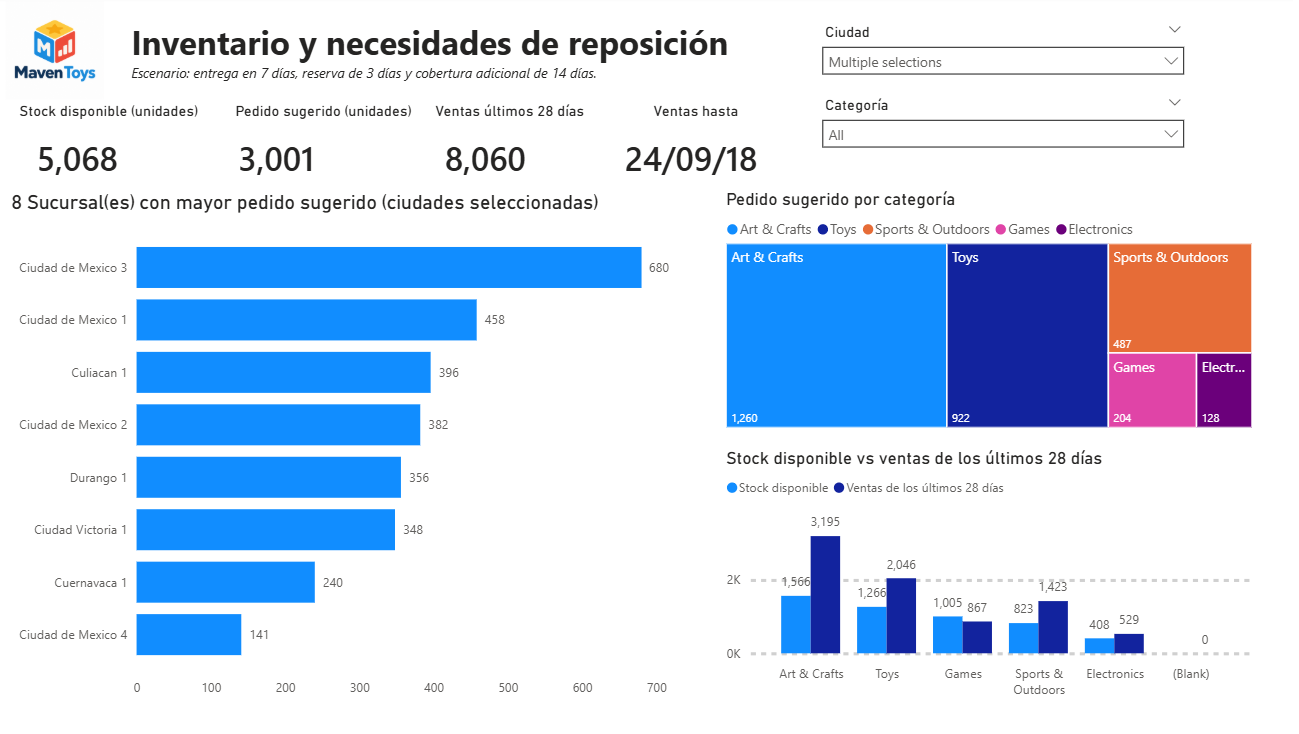

The dashboard page shown, as its layout file describes it:
{"tool":"powerbi","page":{"name":"Resumen de inventario","canvas":[1280,720],"ordinal":0},"visuals":[{"type":"cardVisual","title":"Stock disponible (unidades)","fields":{"Data":["Medidas_2.Stock Actual"]},"box":[28,104,188,84],"z":0},{"type":"textbox","box":[139.1,17.5,647.8,73.9],"z":1000},{"type":"cardVisual","title":"Pedido sugerido (unidades)","fields":{"Data":["Medidas_4.Reposición Total 28D"]},"box":[236,104,189.3,84],"z":2000},{"type":"clusteredBarChart","fields":{"Y":["Medidas_4.Reposición Total 28D"],"Category":["Tiendas.Nombre Tienda Corto"]},"box":[22.6,188.4,659.9,502.7],"z":3000},{"type":"treemap","title":"Pedido sugerido por categoría","fields":{"Group":["Productos.Product_Category"],"Values":["Medidas_4.Reposición Total 28D"]},"box":[717.3,188,521.3,237.3],"z":4000},{"type":"cardVisual","title":"Ventas últimos 28 días","fields":{"Data":["Medidas_4.Unidades Últimos 28 Días"]},"box":[425.3,104,174.7,84],"z":5000},{"type":"clusteredColumnChart","title":"Stock disponible vs ventas de los últimos 28 días","fields":{"Category":["Productos.Product_Category"],"Y":["Medidas_2.Stock Actual","Medidas_4.Unidades Últimos 28 Días"]},"box":[717.3,440,521.3,250.7],"z":6000},{"type":"cardVisual","title":"Ventas hasta","fields":{"Data":["Medidas_4.Fecha Corte Ventas"]},"box":[600,104,186.7,84],"z":7000},{"type":"slicer","fields":{"Values":["Productos.Product_Category"]},"box":[806.7,92,372,66.7],"z":8000},{"type":"slicer","fields":{"Values":["Tiendas.Store_City"]},"box":[806.7,21.3,372,66.7],"z":9000},{"type":"image","box":[5.8,4.9,128.4,96.3],"z":10000}]}

Visuals, with their boxes in screenshot pixels (x1, y1, x2, y2), scaled from the page's 1280x720 canvas onto the 1299x734 screenshot:
"Stock disponible (unidades)" cardVisual: bbox=(28, 106, 219, 192)
textbox: bbox=(141, 18, 799, 93)
"Pedido sugerido (unidades)" cardVisual: bbox=(240, 106, 432, 192)
clusteredBarChart - Medidas_4.Reposición Total 28D x Tiendas.Nombre Tienda Corto: bbox=(23, 192, 693, 705)
"Pedido sugerido por categoría" treemap: bbox=(728, 192, 1257, 434)
"Ventas últimos 28 días" cardVisual: bbox=(432, 106, 609, 192)
"Stock disponible vs ventas de los últimos 28 días" clusteredColumnChart: bbox=(728, 449, 1257, 704)
"Ventas hasta" cardVisual: bbox=(609, 106, 798, 192)
slicer - Productos.Product_Category: bbox=(819, 94, 1196, 162)
slicer - Tiendas.Store_City: bbox=(819, 22, 1196, 90)
image: bbox=(6, 5, 136, 103)
